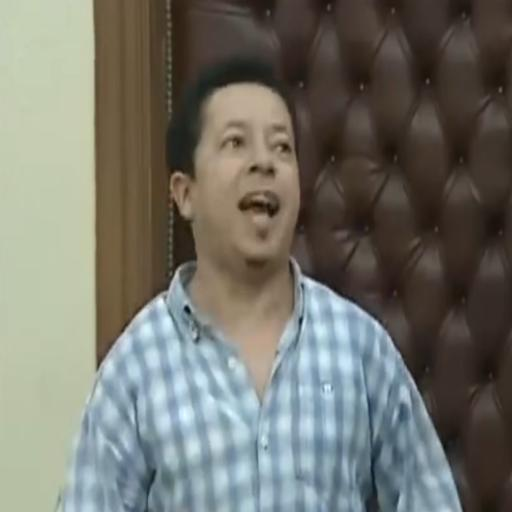fouchika: (167, 61, 300, 269)
